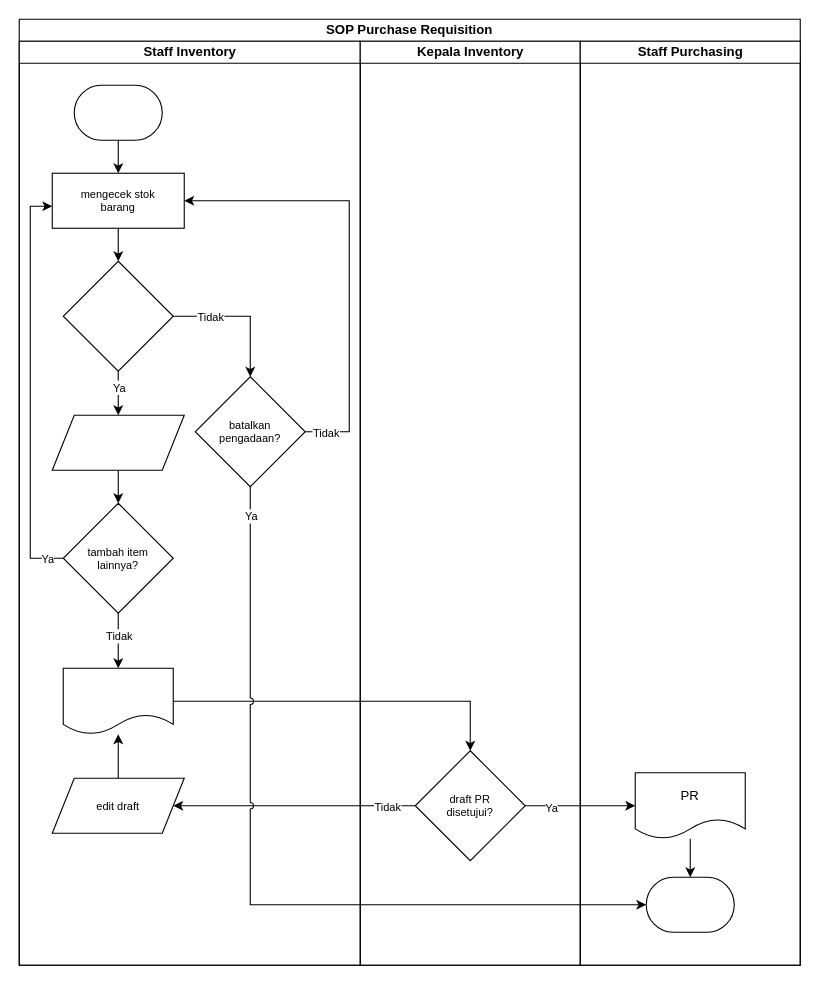
Image size: 820x985. Some labels were removed from this diagram. The shapes that lost their labels are listed below. From the top down, each one's centre as x and y in pixels, then its label:
At [117,112]: "start".
At [117,315]: "perlu pengadaan?".
At [117,442]: "input item PR".
At [117,700]: "draft PR".
At [689,904]: "end".
